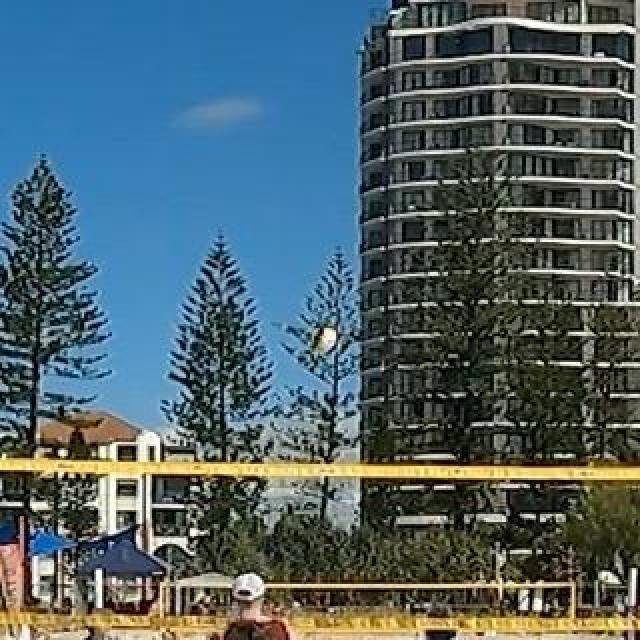volleyball: (309, 323, 339, 355)
